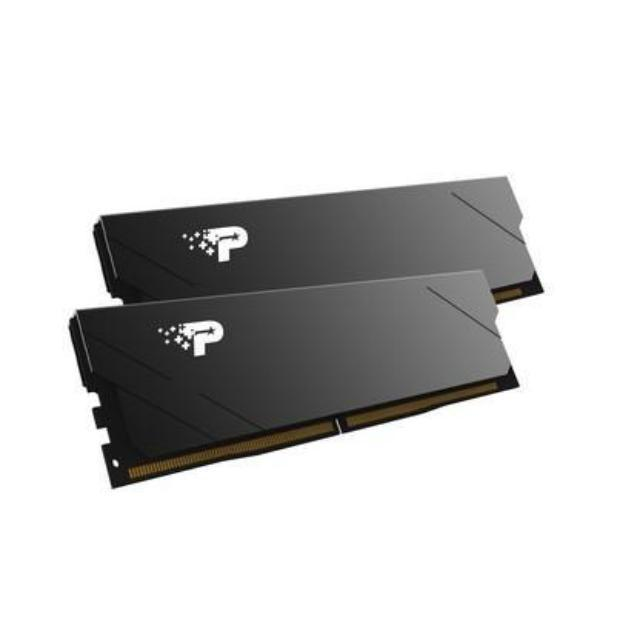RAM: (59, 172, 546, 500)
